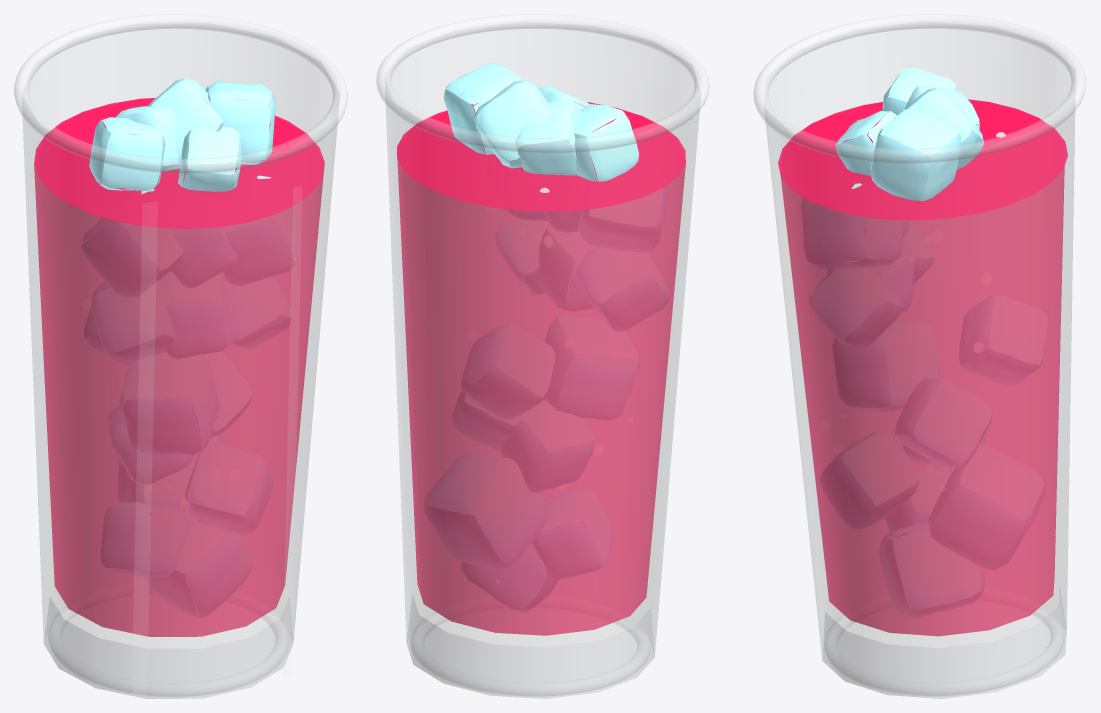
Rendered from iced-tea-glass.glb.
The picture shows the model from 3 angles, left to right: view 1: azimuth 30°, elevation 25°; view 2: azimuth 150°, elevation 25°; view 3: azimuth 270°, elevation 25°; orthographic projection.
Size of what is drawn, in the model's own units: 1.33 by 2.54 by 1.37.
